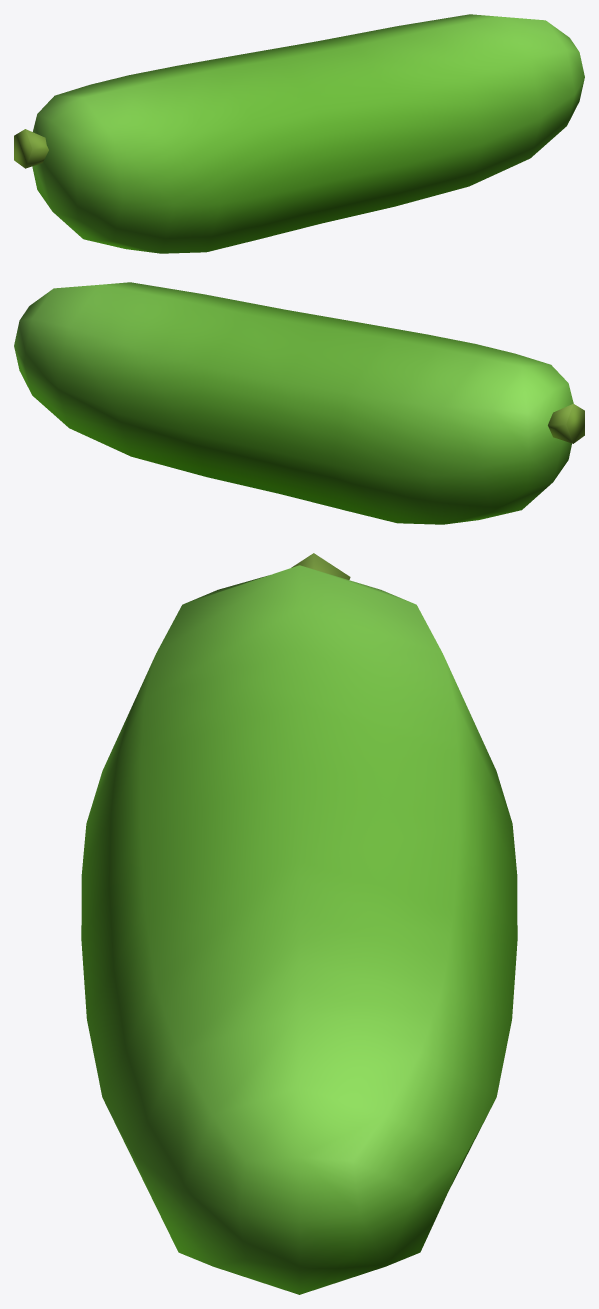
Rendered from WholeCucumber.fbx.
3 renders of one model, top to bottom at view 1: azimuth 30°, elevation 25°; view 2: azimuth 150°, elevation 25°; view 3: azimuth 270°, elevation 25°, orthographic. The views are drawn at different scales.
Visible parts, largest first — view 1: Cucumber; view 2: Cucumber; view 3: Cucumber.
Part boxes in pixels (<box>): Cucumber: <box>14,14,584,253</box>; Cucumber: <box>14,282,584,524</box>; Cucumber: <box>81,553,517,1294</box>.
Size of the model in its own units: 0.95 by 0.2757 by 0.3237.
